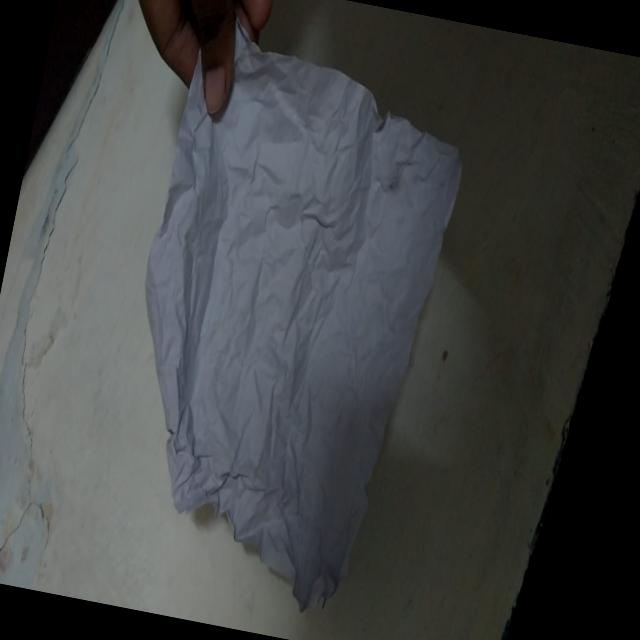Paper - Recyclable: (85, 4, 484, 628)
